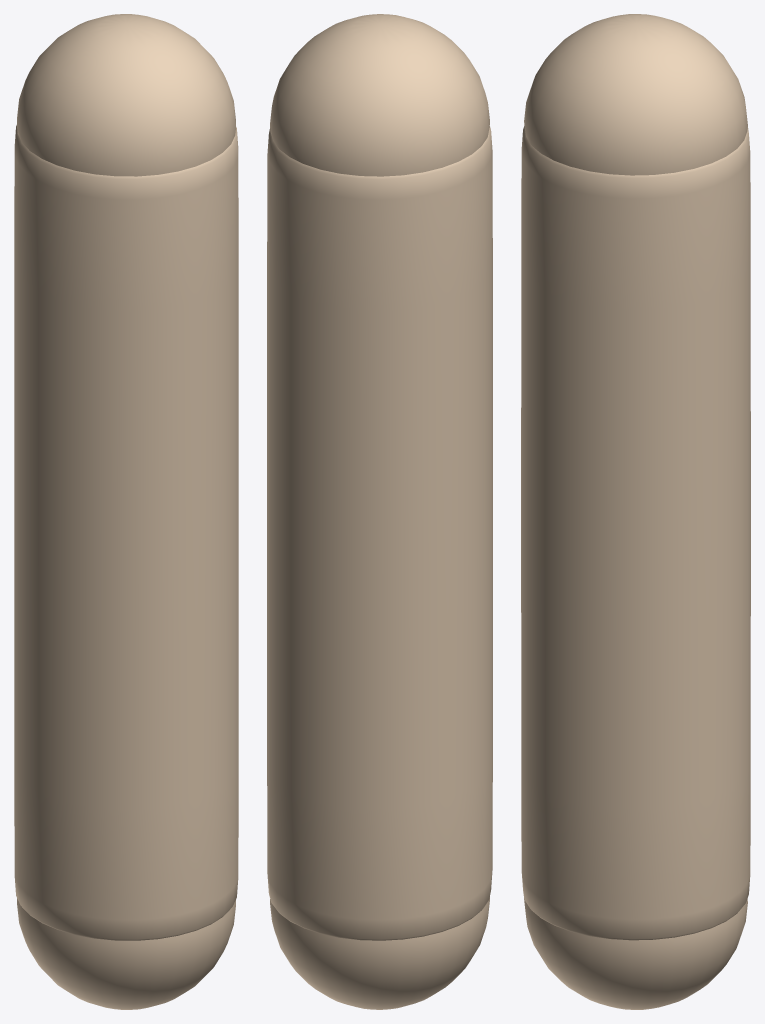
File: PROP_Log_v1.glb
The picture shows the model from 3 angles, left to right: view 1: azimuth 30°, elevation 25°; view 2: azimuth 150°, elevation 25°; view 3: azimuth 270°, elevation 25°; orthographic projection.
Visible parts, largest first — view 1: PROP_Log_v1; view 2: PROP_Log_v1; view 3: PROP_Log_v1.
Boxes of the visible parts, x1=… form: PROP_Log_v1: x1=14, y1=14, x2=238, y2=1009; PROP_Log_v1: x1=267, y1=14, x2=492, y2=1009; PROP_Log_v1: x1=521, y1=14, x2=750, y2=1009.
Bounding box in the file's own units: 0.4259 × 2.04 × 0.4358.
